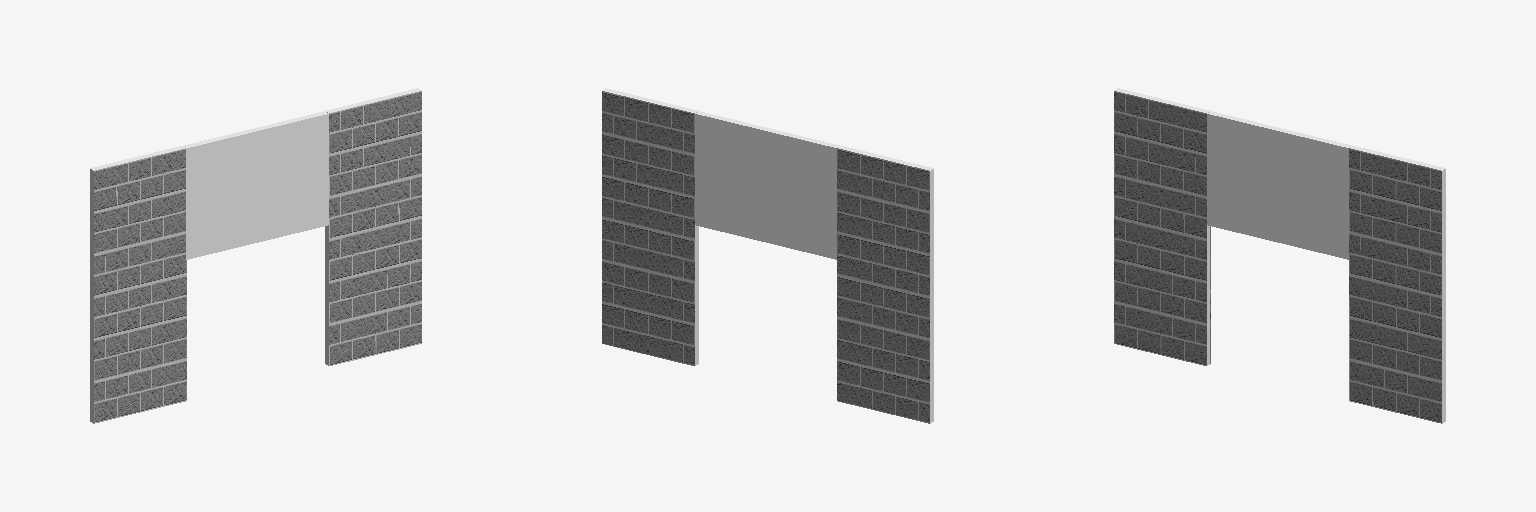
The picture shows the model from 3 angles: view 1: azimuth 30°, elevation 25°; view 2: azimuth 150°, elevation 25°; view 3: azimuth 330°, elevation 25°; orthographic projection.
Visible parts, largest first — view 1: Cube_Cube.003, Cube_Cube.001; view 2: Cube_Cube.003, Cube_Cube.001; view 3: Cube_Cube.003, Cube_Cube.001.
Boxes of the visible parts, box(x1,y1,x2,y2) form: Cube_Cube.003: box(90, 88, 421, 423); Cube_Cube.001: box(184, 111, 328, 259); Cube_Cube.003: box(602, 88, 933, 423); Cube_Cube.001: box(695, 111, 839, 259); Cube_Cube.003: box(1114, 88, 1445, 423); Cube_Cube.001: box(1207, 111, 1351, 259).
Size of the model in its own units: 20.07 by 14.78 by 0.3932.
Materials: 5 (1 with a texture image).